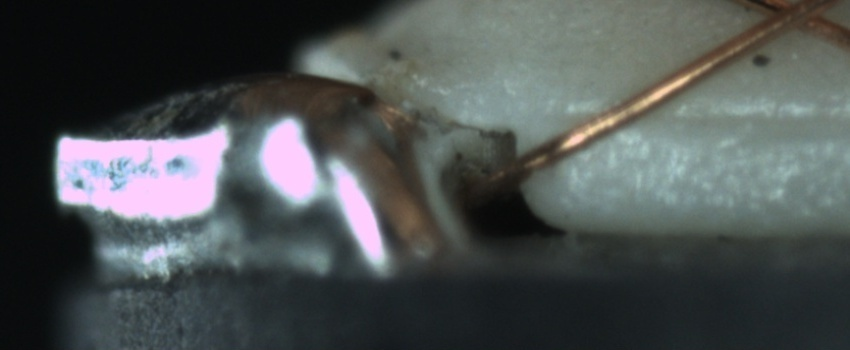CL: (740, 0, 846, 42)
DL: (575, 84, 843, 153)
